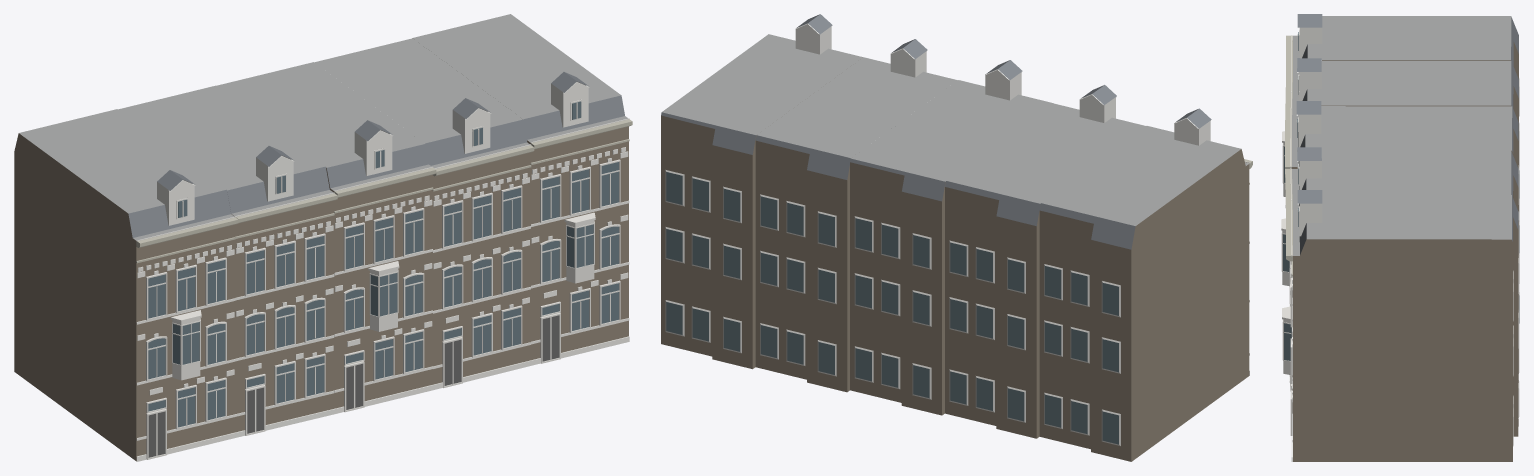
The model's file is chunk-face-tex-1-59-r1.glb.
The picture shows the model from 3 angles, left to right: view 1: azimuth 30°, elevation 25°; view 2: azimuth 150°, elevation 25°; view 3: azimuth 270°, elevation 25°; orthographic projection. The views are drawn at different scales.
Parts seen in each view (by area): view 1: face-tex-1-59-r1; view 2: face-tex-1-59-r1; view 3: face-tex-1-59-r1.
Boxes of the visible parts, x1,y1,x2,y2 form: face-tex-1-59-r1: [14, 14, 632, 461]; face-tex-1-59-r1: [661, 14, 1252, 461]; face-tex-1-59-r1: [1281, 14, 1519, 461].
Size of the model in its own units: 30.53 by 15.99 by 13.85.
